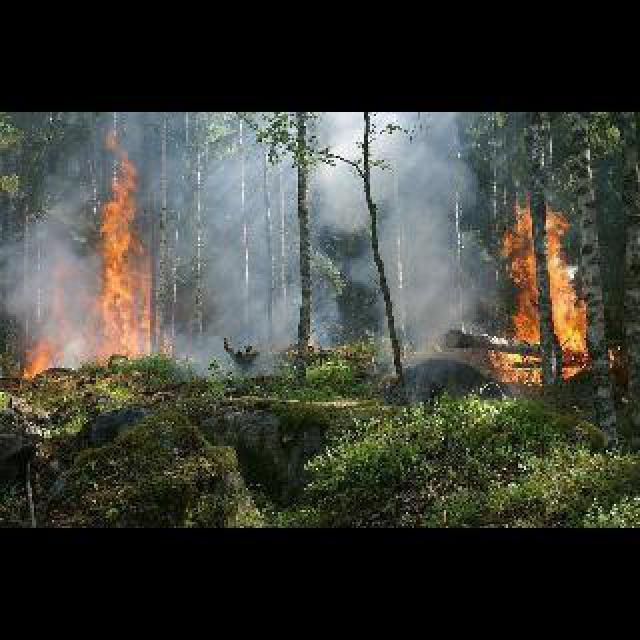Fire: (14, 120, 182, 382), (486, 180, 626, 394)
Smoke: (2, 152, 100, 342)
